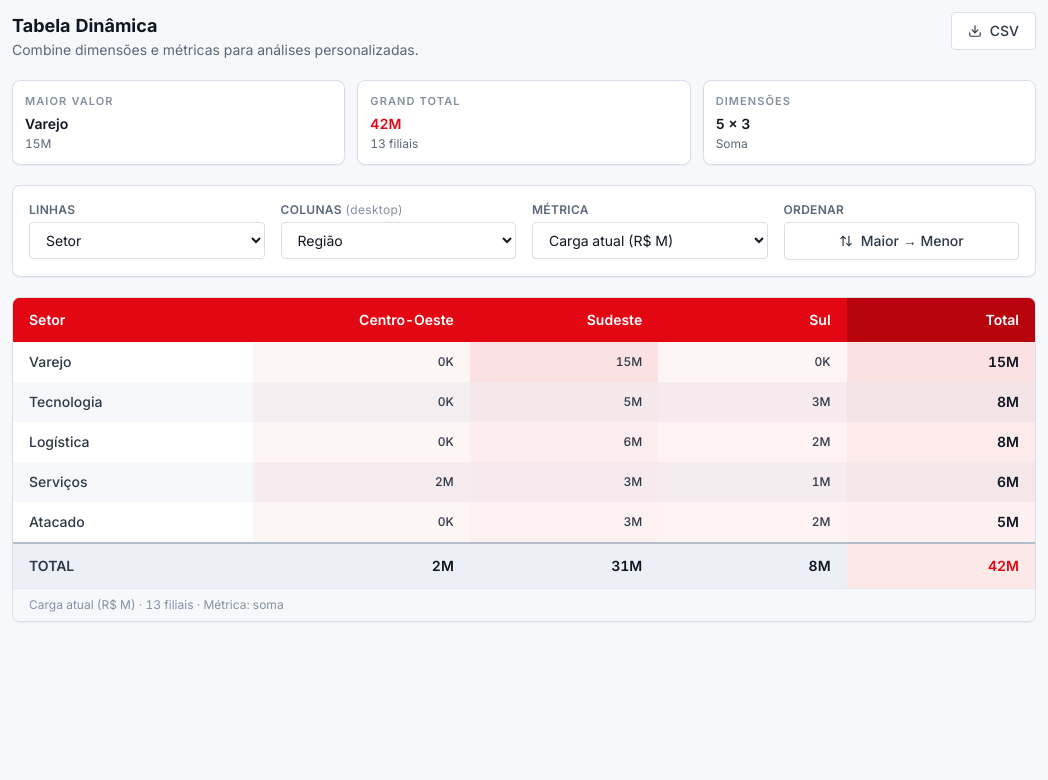
Test: PivotTablePage › toggles sort direction on button click
Click the button "Maior → Menor" at coordinates (901, 240), box x1=784 y1=222 x2=1019 y2=260
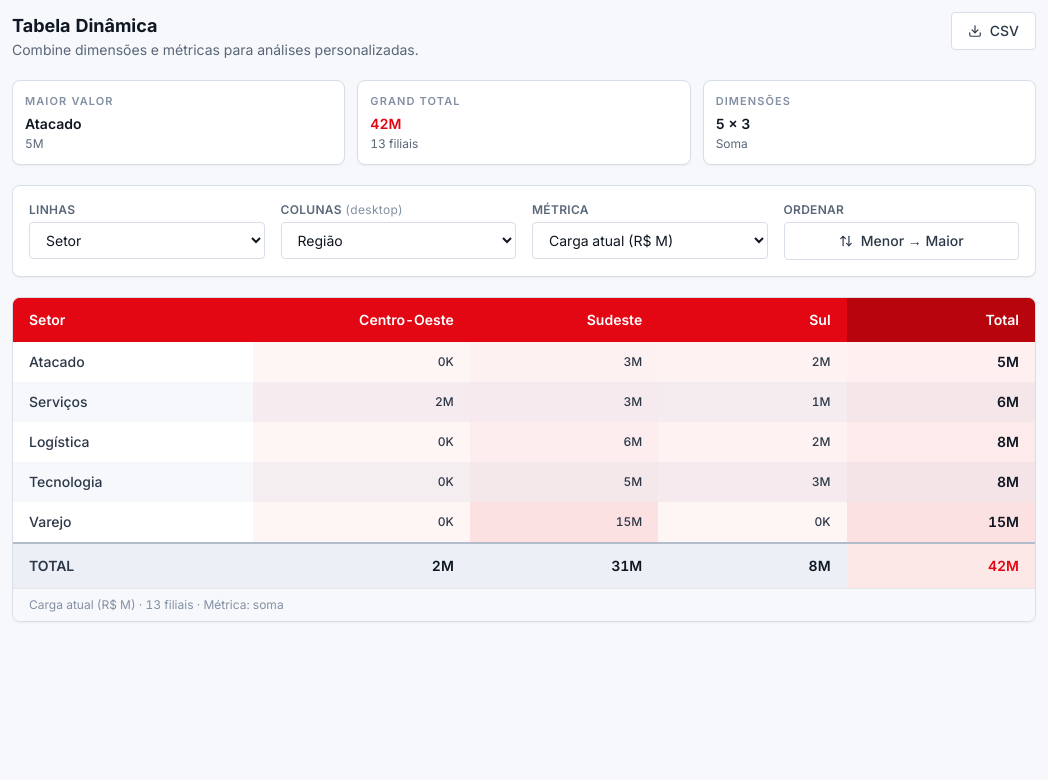
Expected: the button "Menor → Maior" is shown, x1=784 y1=222 x2=1019 y2=260
